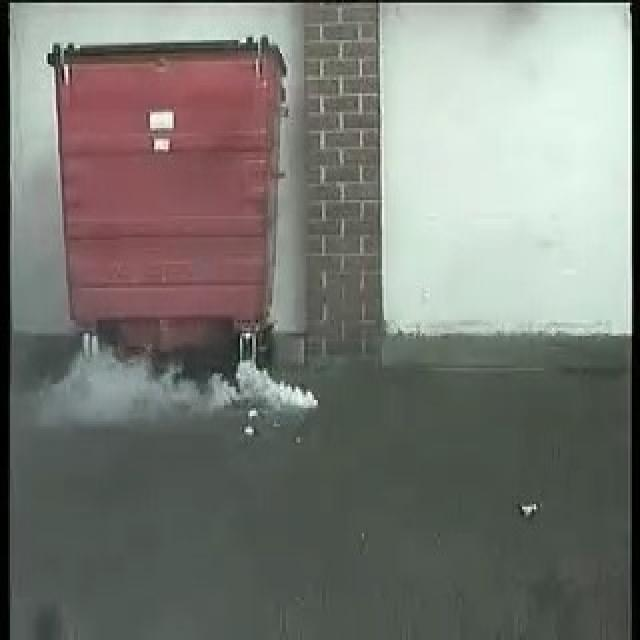smoke: (72, 356, 318, 419)
